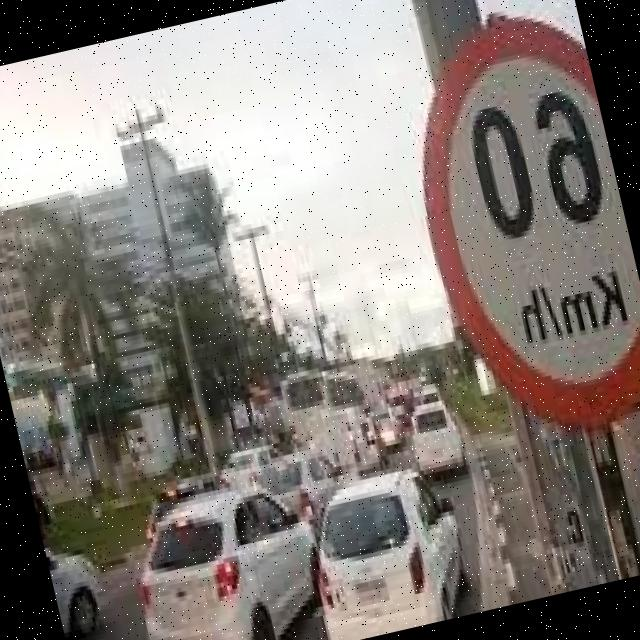speed_limit_60: (377, 0, 640, 453)
